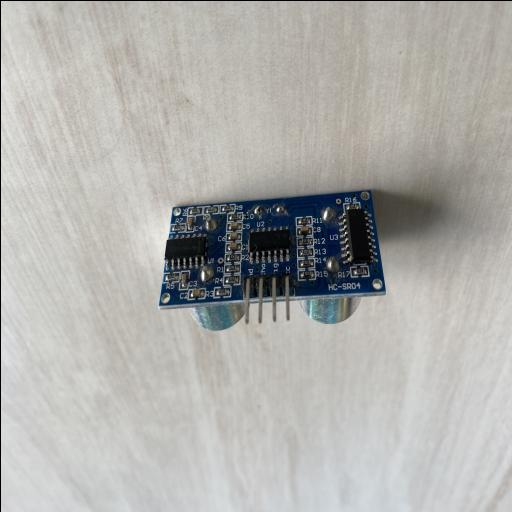Ultrasonic Sensor: (156, 188, 386, 332)
